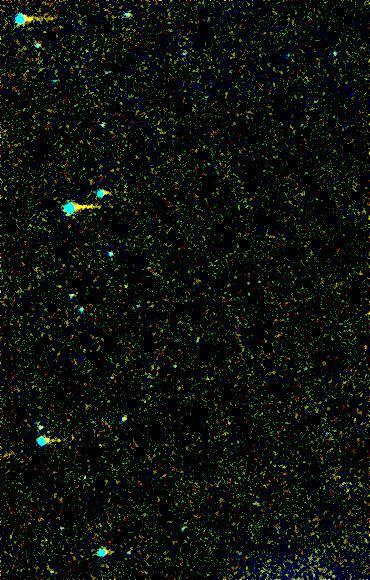star: (110, 275, 140, 305)
